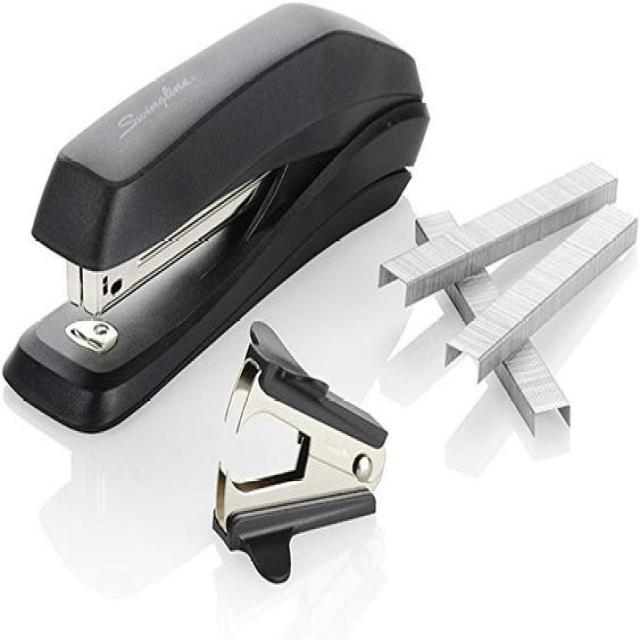Stapler: (0, 0, 437, 400)
